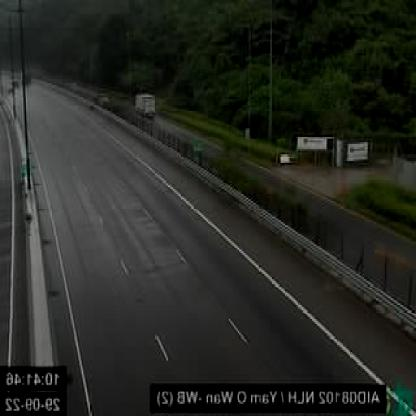Truck: (134, 88, 161, 118)
